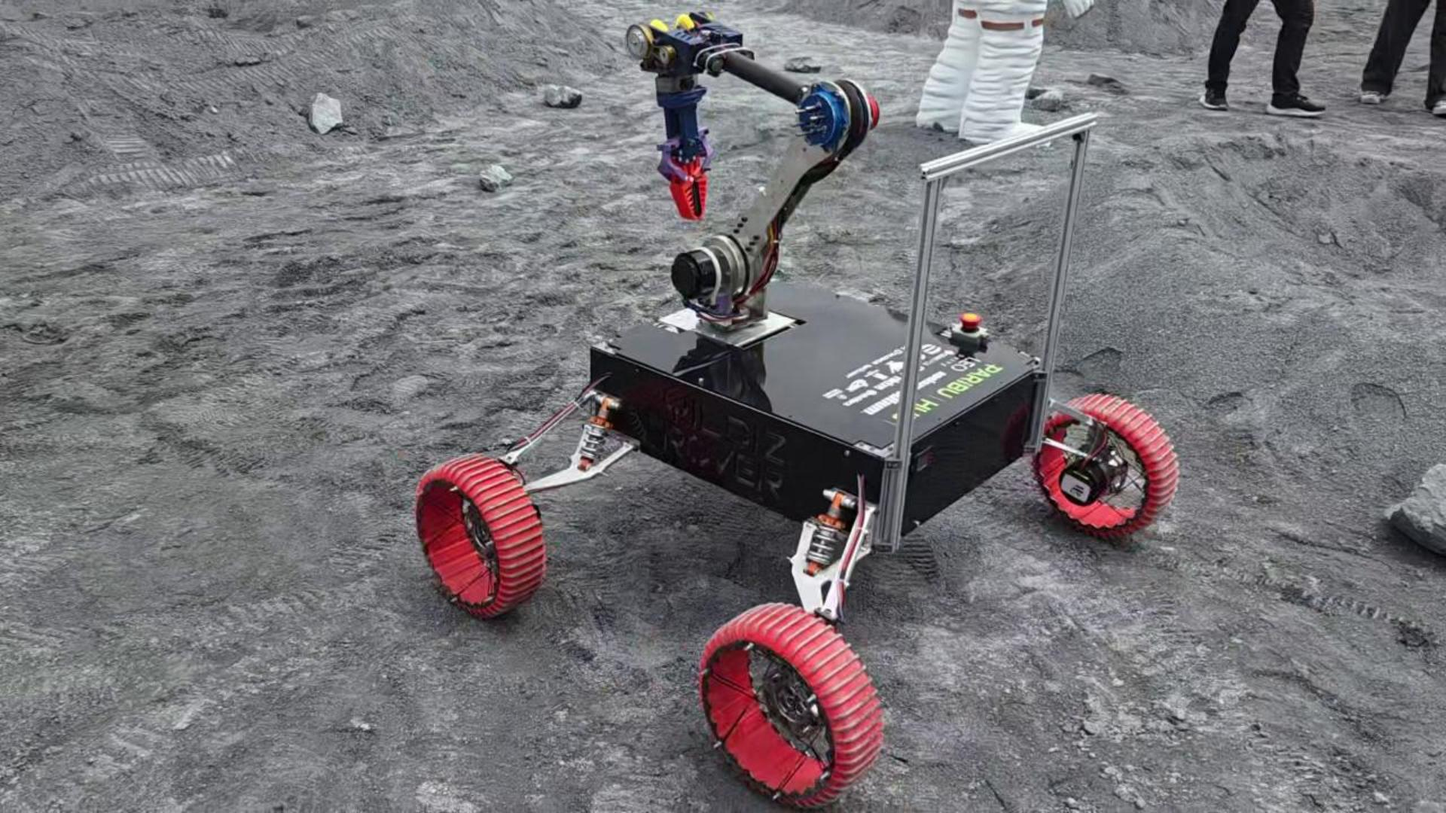rock: (1385, 464, 1445, 554), (308, 93, 342, 133), (540, 84, 582, 107), (479, 164, 512, 191), (1033, 90, 1064, 111), (784, 56, 821, 72)
